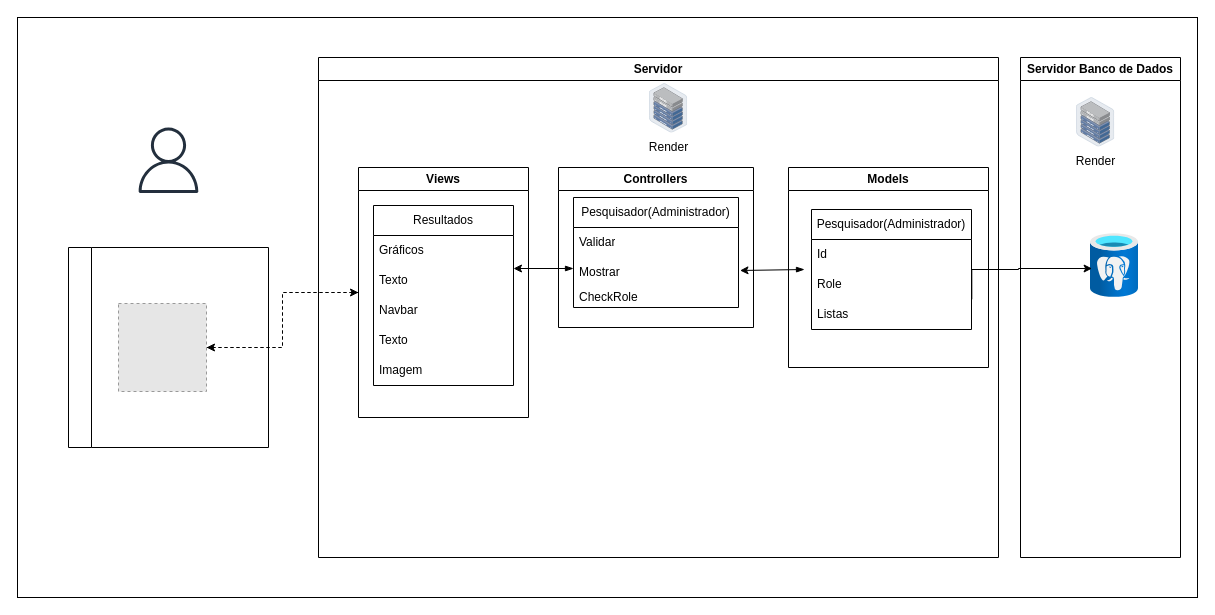
Image size: 1215x615. Some labels were removed from this diagram. Grey dashed boxes stand in for pictures. The centre of each missing label's shape, as x and y in pixels:
"Cliente" belongs at [168,347].
"Usuário" belongs at [168,160].
